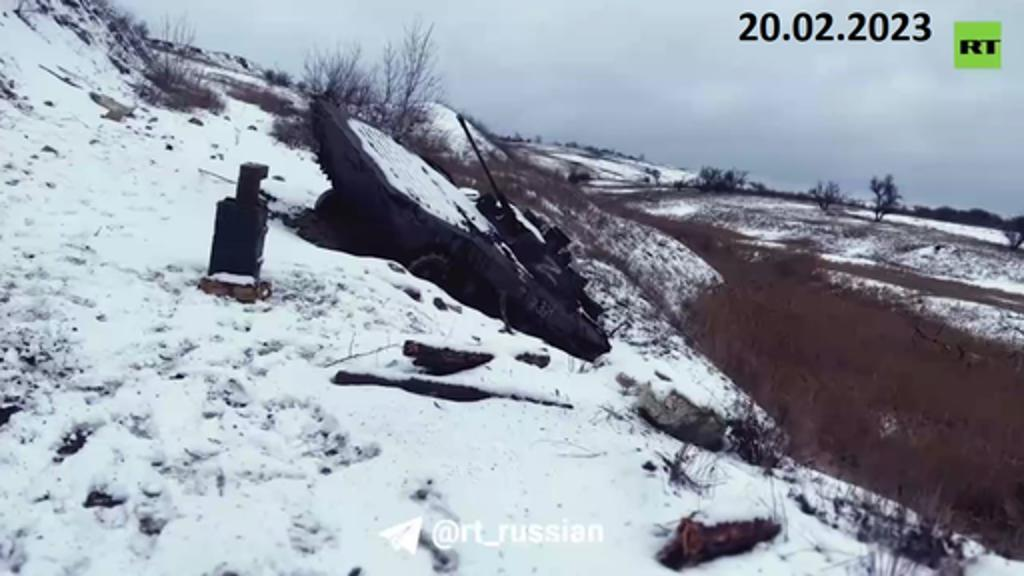APC-IFV: (300, 90, 624, 366)
